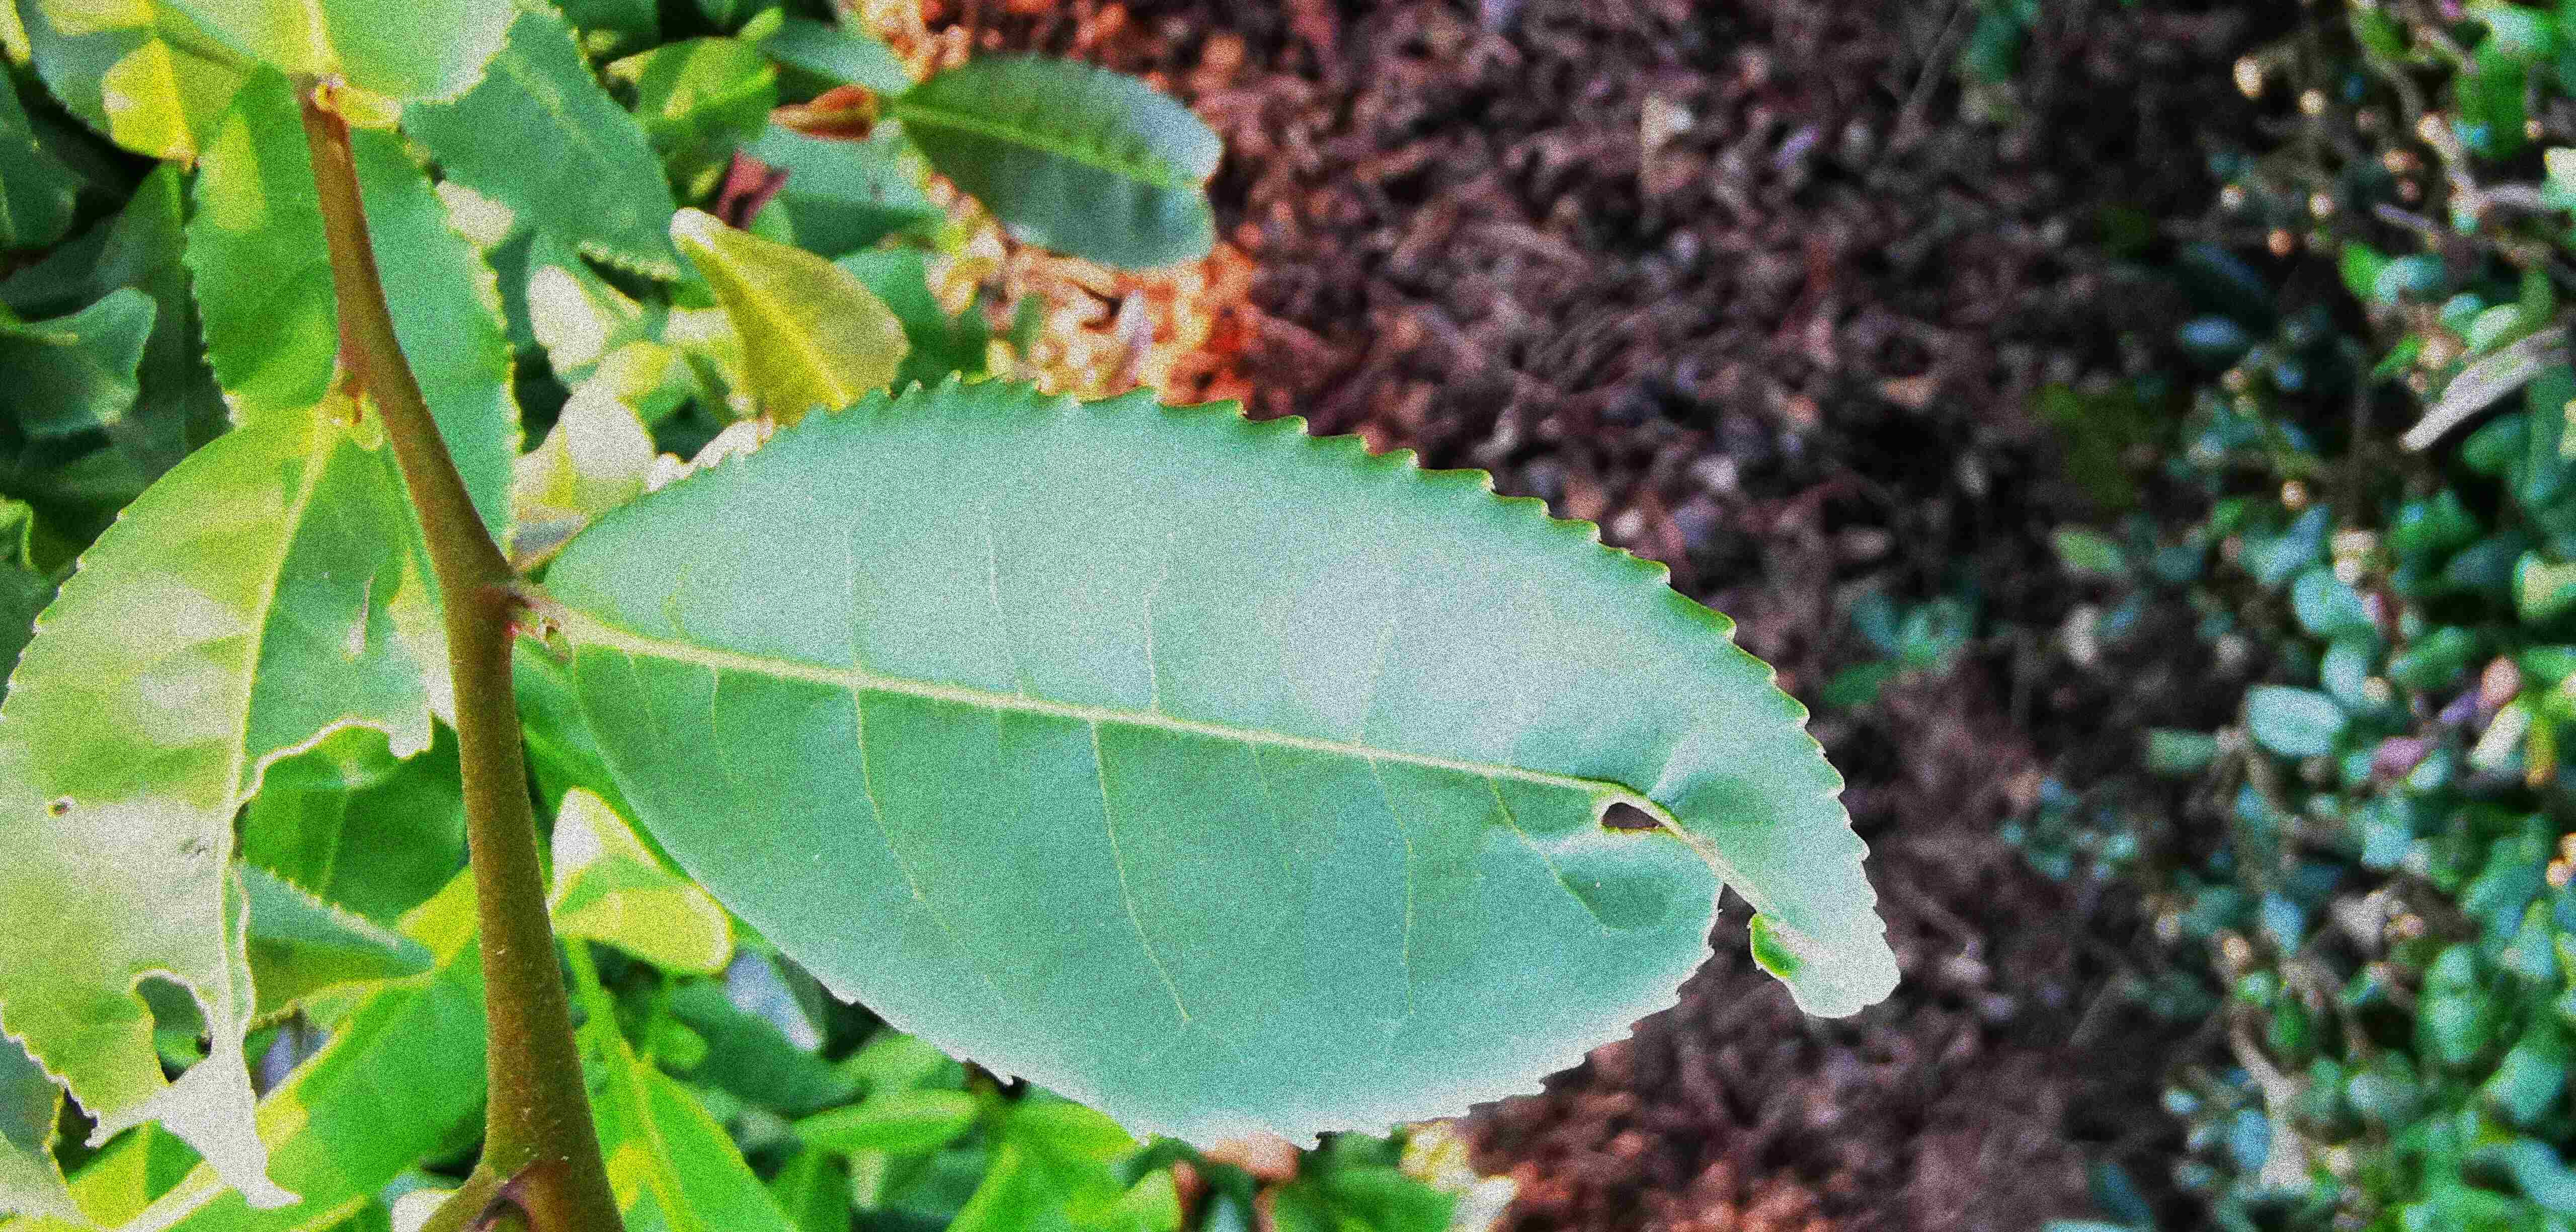chihuo_high: (2, 399, 440, 1216)
chihuo_low: (544, 366, 1906, 1158)
